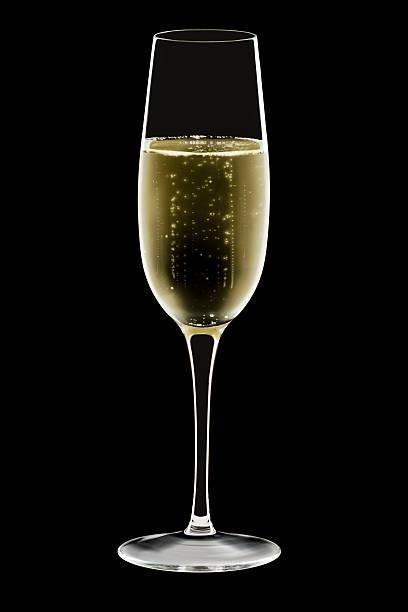glass-wine: (118, 24, 281, 577)
